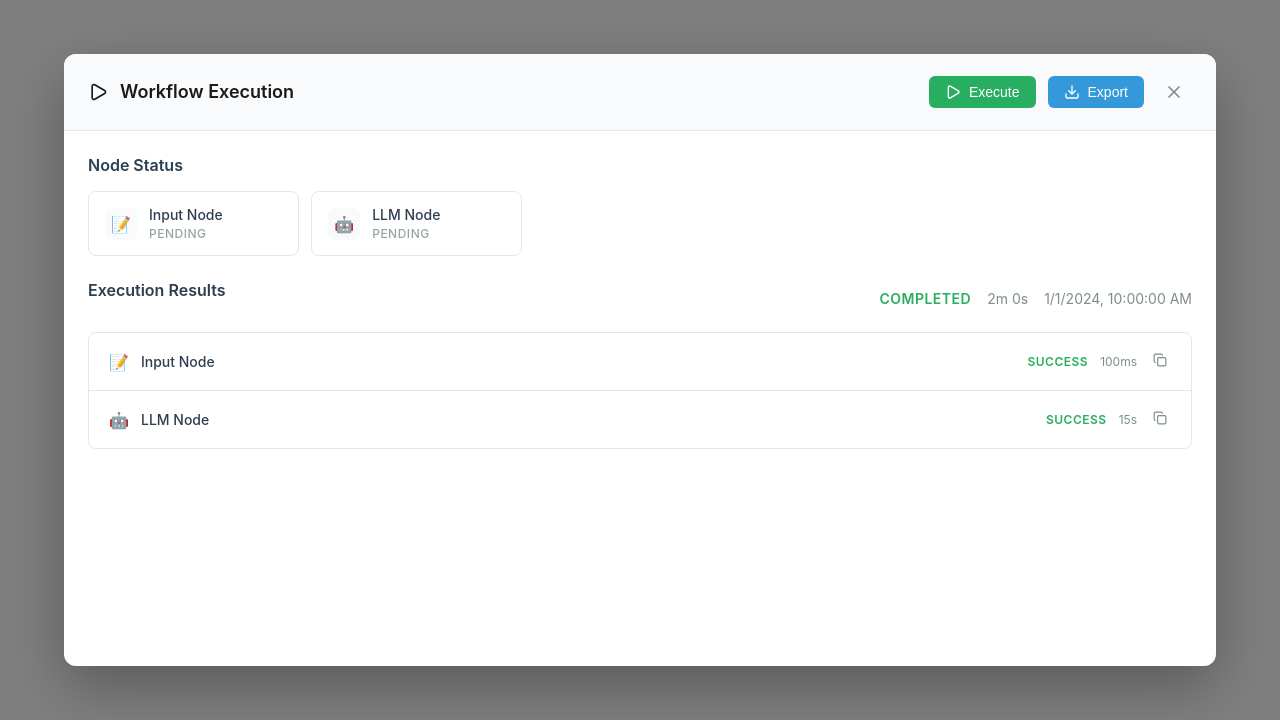
ExecutionPanel Component › Results Display › should show result details when clicked
The image size is (1280, 720).
Expected: the text "Input Node" is shown, [141, 353, 215, 370]
Click the text "Input Node": [640, 362] box [89, 333, 1191, 391]
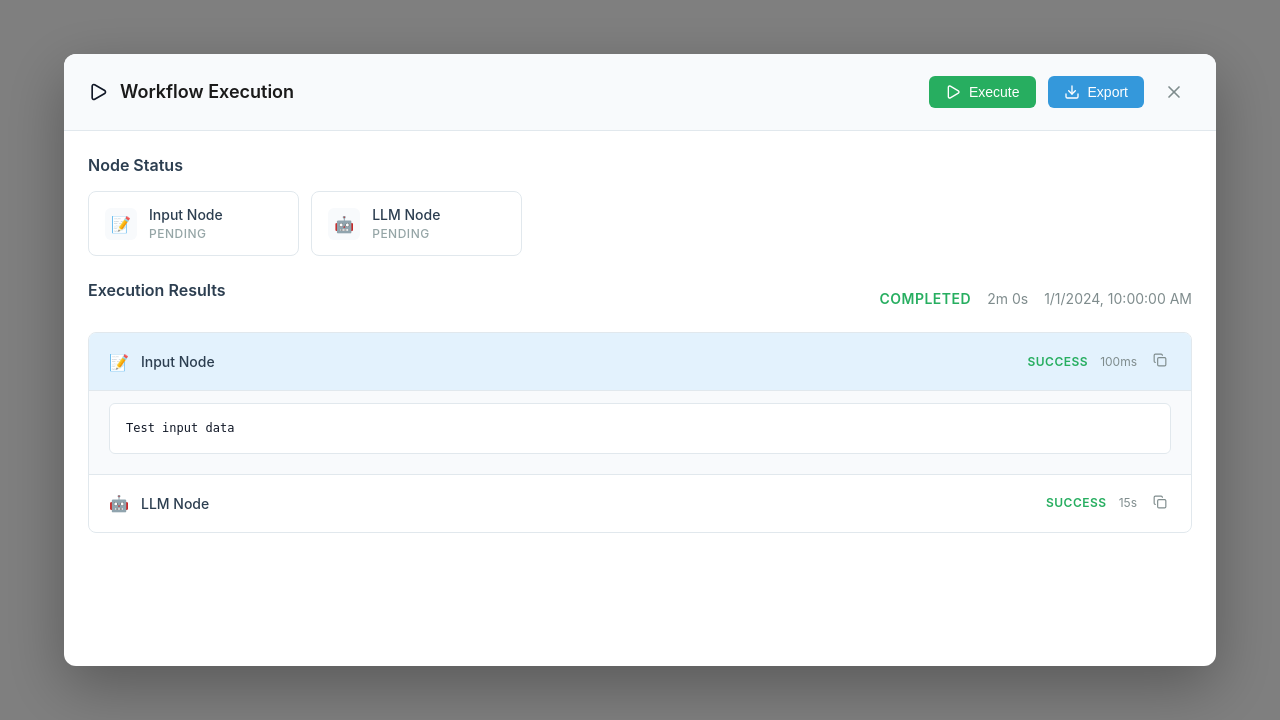
Expected: the text "Test input data" is shown, [109, 403, 1171, 454]
